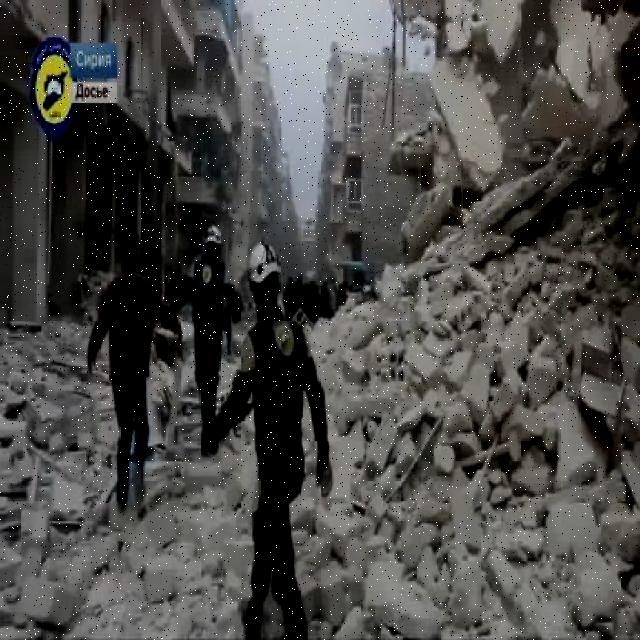Helmet: (247, 238, 280, 286), (203, 222, 222, 245)
